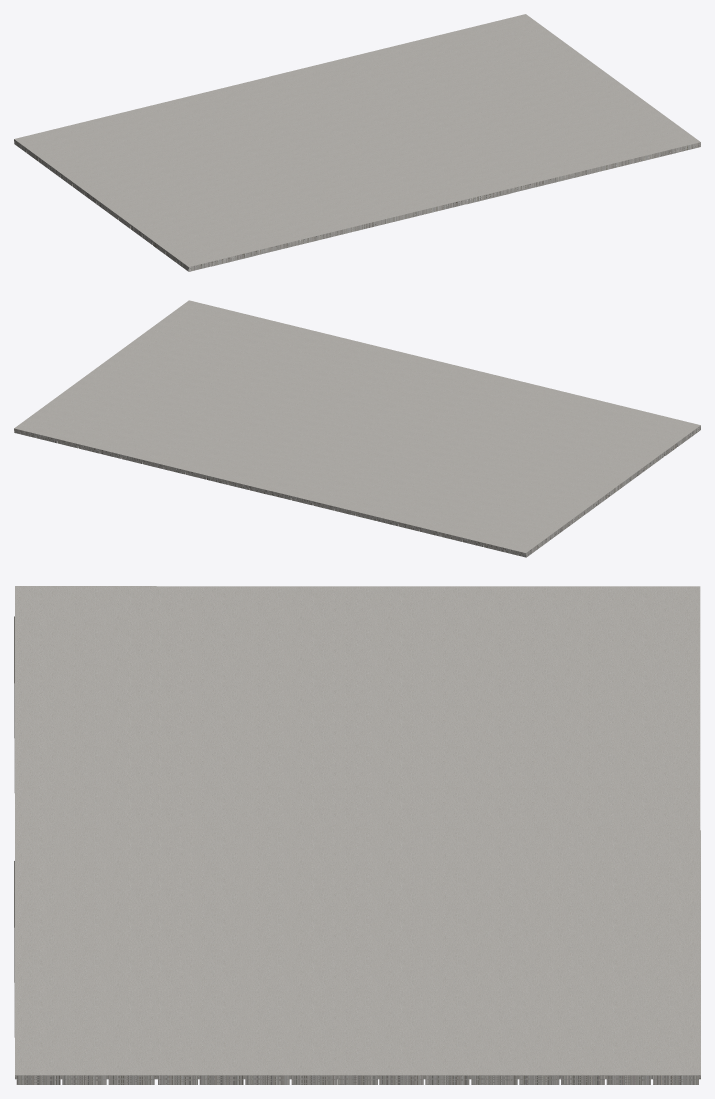
Rendered from ceiling.fbx.
3 views of the same model, one above another, from view 1: azimuth 30°, elevation 25°; view 2: azimuth 150°, elevation 25°; view 3: azimuth 270°, elevation 25° (orthographic). The views are drawn at different scales.
Parts seen in each view (by area): view 1: pCube17, pCube22, pCube20, pCube18, pCube19, pCube21, pCube24, pCube23; view 2: pCube17, pCube18, pCube22, pCube20, pCube19, pCube21, pCube24, pCube23; view 3: pCube18, pCube19, pCube21, pCube17, pCube20, pCube22, pCube23, pCube24.
Boxes of the visible parts, box(x1,y1,x2,y2) form: pCube17: box(14, 76, 316, 177); pCube22: box(106, 144, 408, 244); pCube20: box(60, 110, 361, 211); pCube18: box(270, 14, 572, 110); pCube19: box(317, 48, 618, 144); pCube21: box(363, 82, 664, 178); pCube24: box(152, 178, 445, 271); pCube23: box(409, 115, 700, 209); pCube17: box(270, 456, 572, 557); pCube18: box(14, 394, 316, 495); pCube22: box(363, 389, 664, 489); pCube20: box(317, 423, 618, 523); pCube19: box(61, 360, 362, 456); pCube21: box(107, 327, 408, 423); pCube24: box(409, 363, 700, 455); pCube23: box(153, 300, 444, 388); pCube18: box(518, 830, 700, 1084); pCube19: box(336, 830, 519, 1084); pCube21: box(156, 830, 339, 1084); pCube17: box(517, 586, 700, 830); pCube20: box(336, 586, 519, 830); pCube22: box(156, 586, 339, 830); pCube23: box(14, 830, 156, 1084); pCube24: box(14, 586, 156, 830).
Bounding box in the file's own units: 2428 × 21.97 × 1440.
2 materials, 1 textured.
